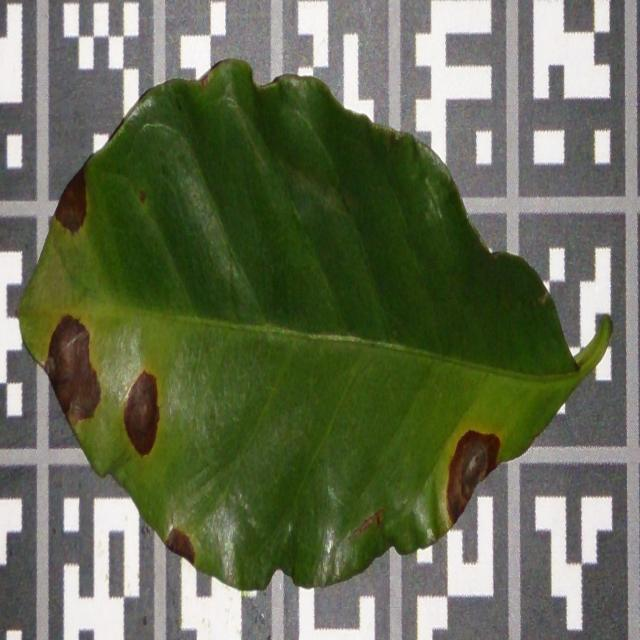Enfermedad-Mancha-de-hierro: (13, 60, 609, 595)
